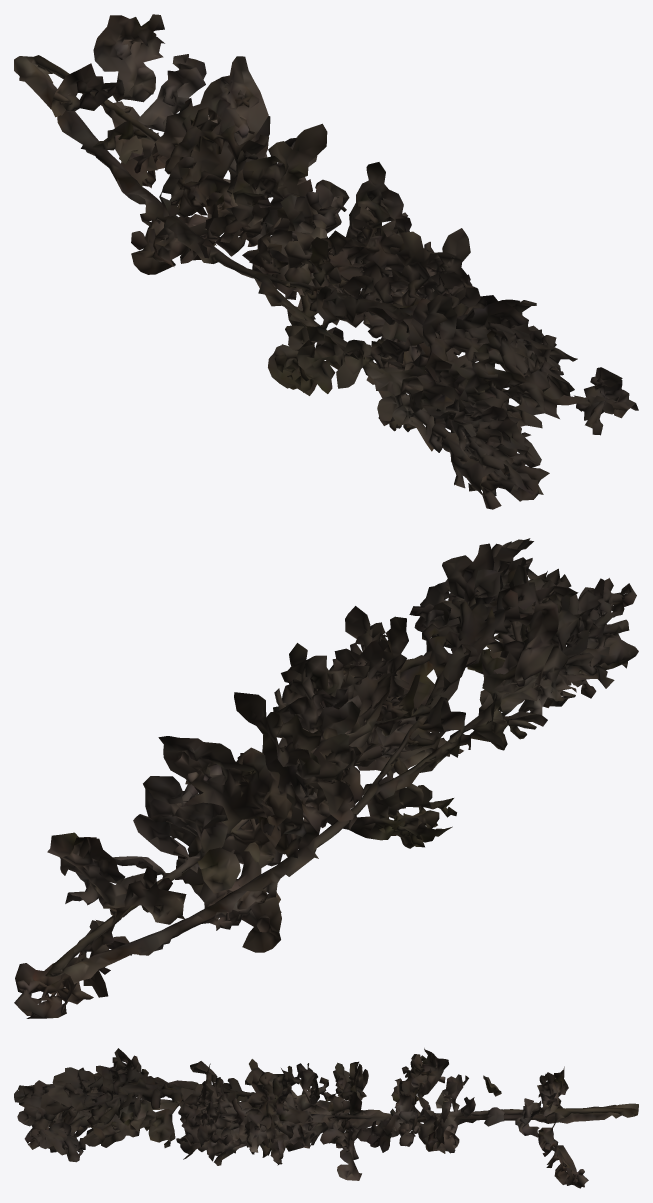
Rendered from tree_mesh.dae.
3 views of the same model, one above another, from view 1: azimuth 30°, elevation 25°; view 2: azimuth 150°, elevation 25°; view 3: azimuth 270°, elevation 25° (orthographic). The views are drawn at different scales.
Parts seen in each view (by area): view 1: node0; view 2: node0; view 3: node0.
Boxes of the visible parts, left/top/right/bottom form: node0: left=14, top=14, right=638, bottom=509; node0: left=14, top=538, right=638, bottom=1018; node0: left=14, top=1048, right=638, bottom=1188.
Size of the model in its own units: 5.94 by 6.16 by 28.53.
